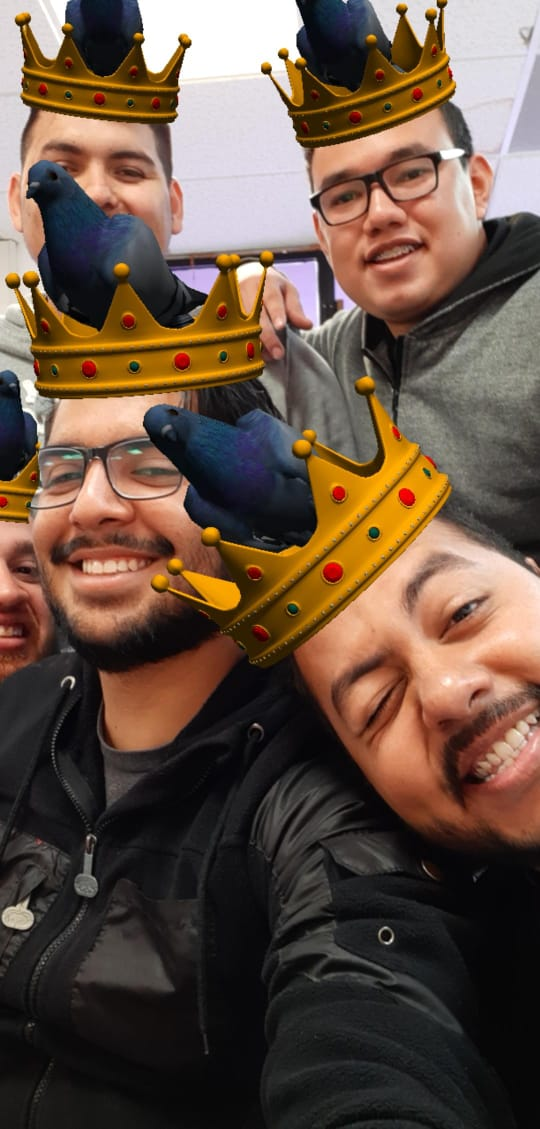Yoshi: (238, 431, 534, 838)
